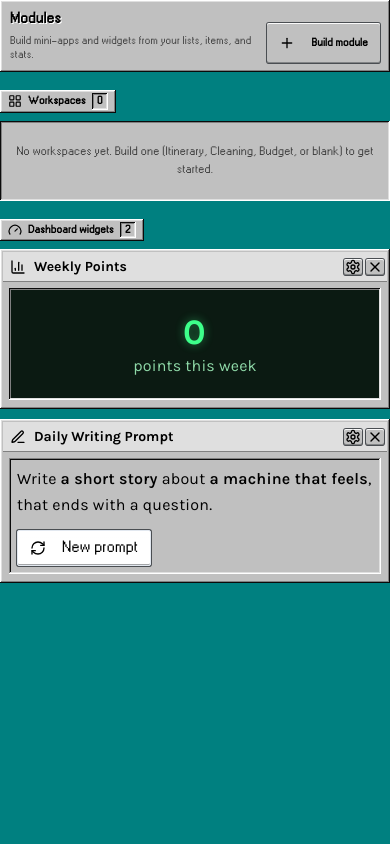
ModulesPanel › lists the House Cleaning App template in the builder
The width and height of the screenshot is (390, 844).
What coordinates should you click on to do the following:
click the button "Build module"
I would click on:
 (324, 43)
Its box is x1=268 y1=23 x2=380 y2=63.
(page scrolled)
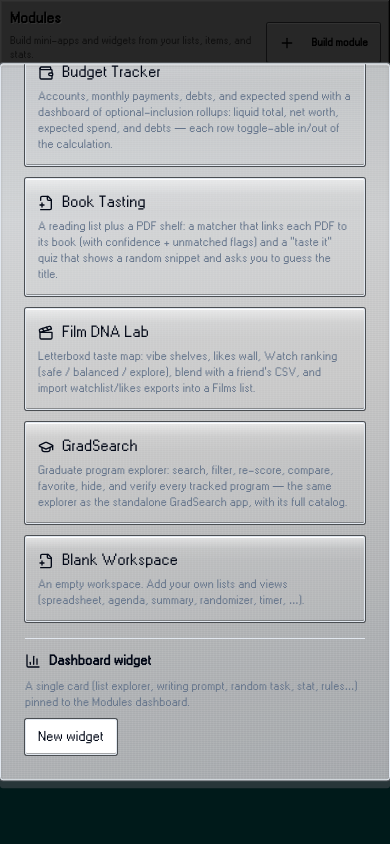
Expected: the text "GradSearch" is shown, x1=38 y1=439 x2=138 y2=455
